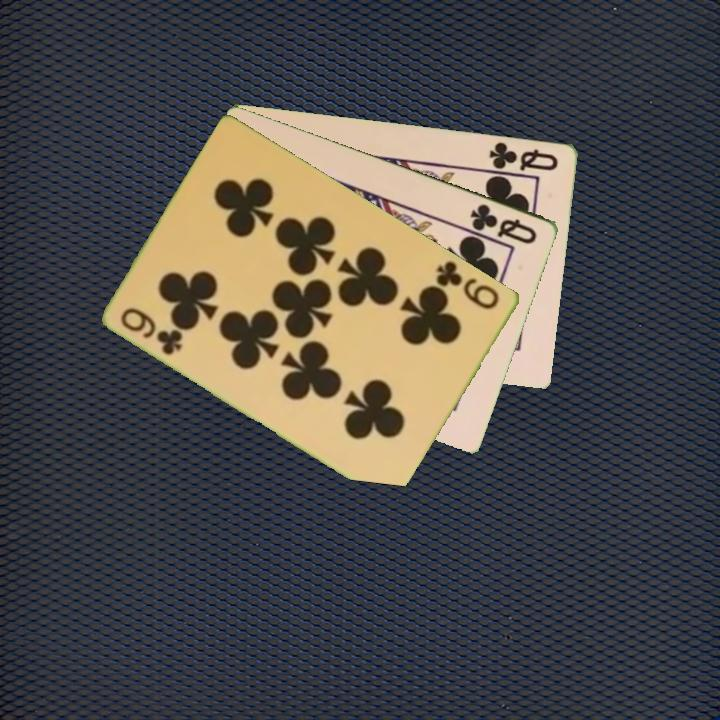9c: (432, 257, 503, 313), (117, 303, 187, 358)
Qc: (467, 200, 541, 247), (486, 137, 562, 174)
